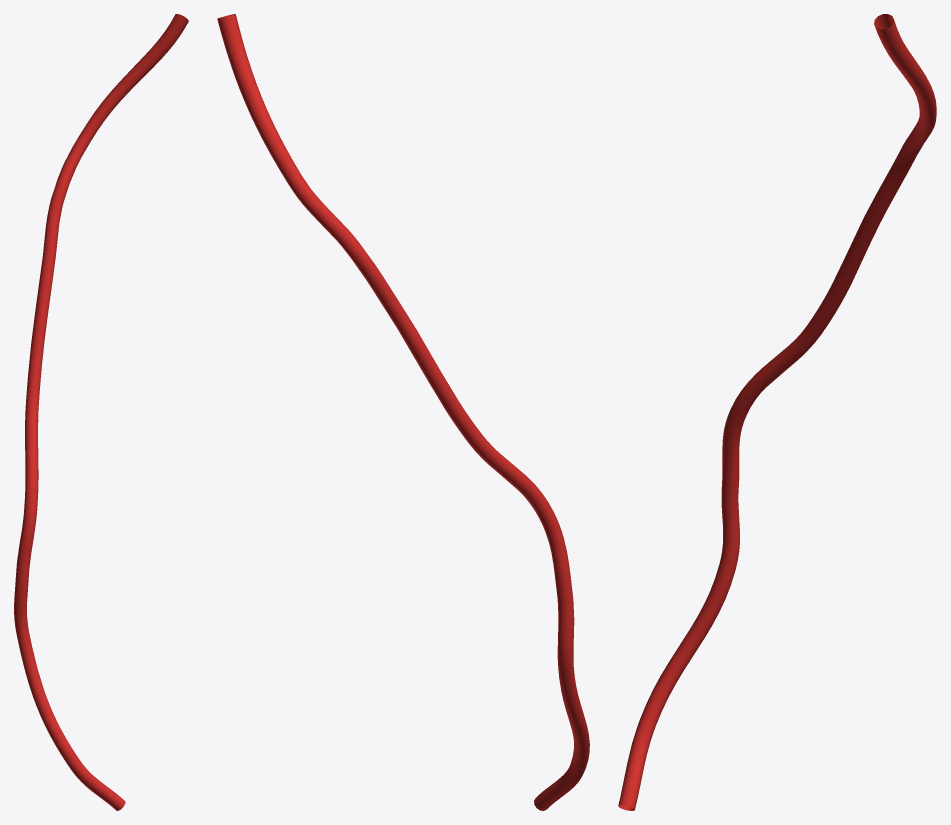
Rendered from circulatorio-radial-collateral-artery-r.glb.
3 views of the same model, side by side, from view 1: azimuth 30°, elevation 25°; view 2: azimuth 150°, elevation 25°; view 3: azimuth 270°, elevation 25° (orthographic). The views are drawn at different scales.
Visible parts, largest first — view 1: Radial collateral artery.r; view 2: Radial collateral artery.r; view 3: Radial collateral artery.r.
Boxes of the visible parts, left/top/right/bottom form: Radial collateral artery.r: left=14, top=14, right=188, bottom=810; Radial collateral artery.r: left=217, top=14, right=589, bottom=810; Radial collateral artery.r: left=618, top=14, right=936, bottom=810.
Size of the model in its own units: 0.0509 by 0.1437 by 0.0462.
